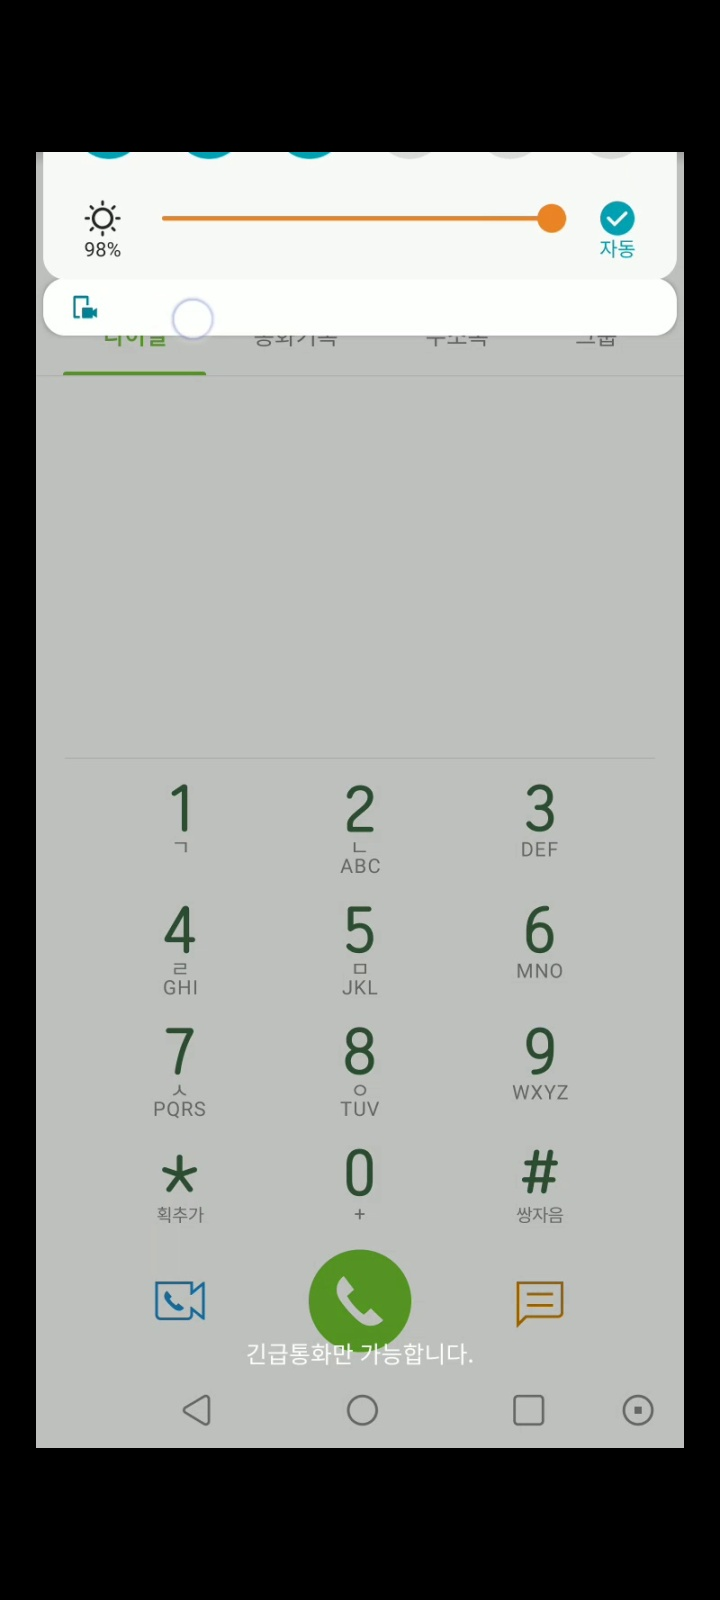Cursor: (170, 297, 215, 342)
